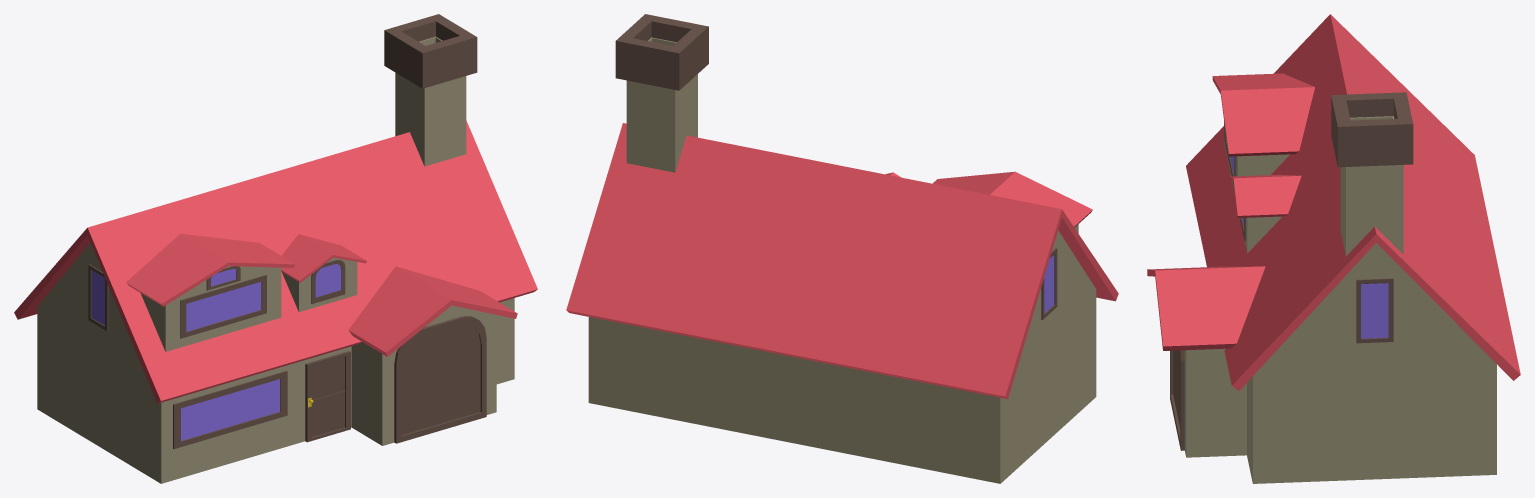
The model's file is CALLE2_CASA1_026.fbx.
3 renders of one model, left to right at view 1: azimuth 30°, elevation 25°; view 2: azimuth 150°, elevation 25°; view 3: azimuth 270°, elevation 25°, orthographic. The views are drawn at different scales.
Parts seen in each view (by area): view 1: CASA1.026; view 2: CASA1.026; view 3: CASA1.026.
Part boxes in pixels (x1,y1,x2,y2): CASA1.026: [14, 14, 537, 483]; CASA1.026: [566, 14, 1118, 483]; CASA1.026: [1147, 14, 1520, 483].
Bounding box in the file's own units: 1017 × 734 × 697.
